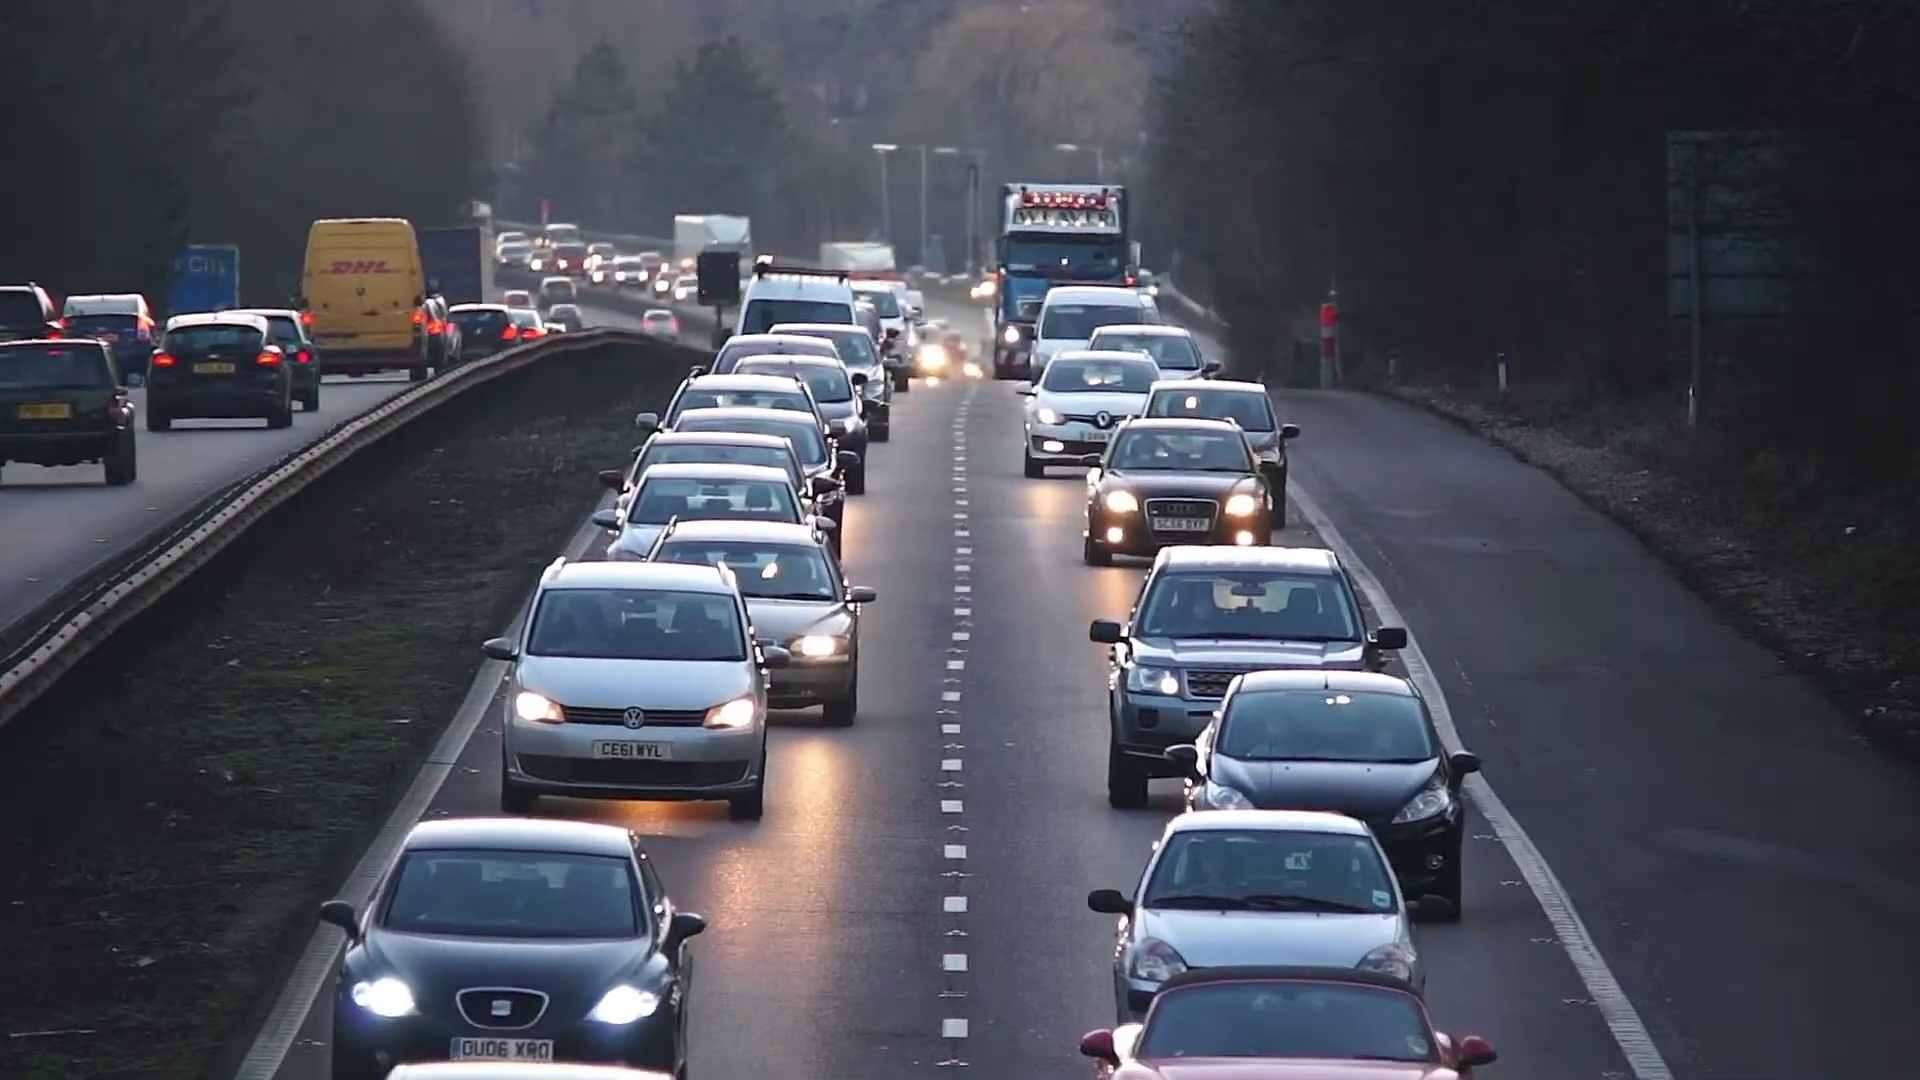license_plate: (447, 1034, 555, 1065), (591, 739, 670, 760)
